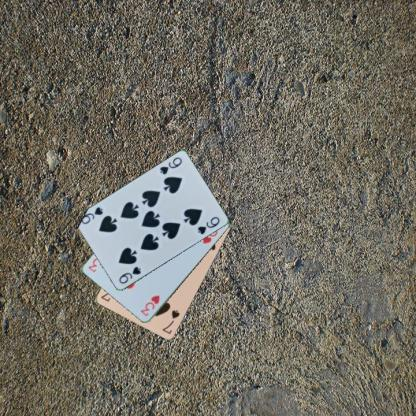3h: (138, 293, 161, 317)
7s: (160, 307, 181, 336)
9s: (116, 264, 142, 285), (157, 155, 183, 176)
